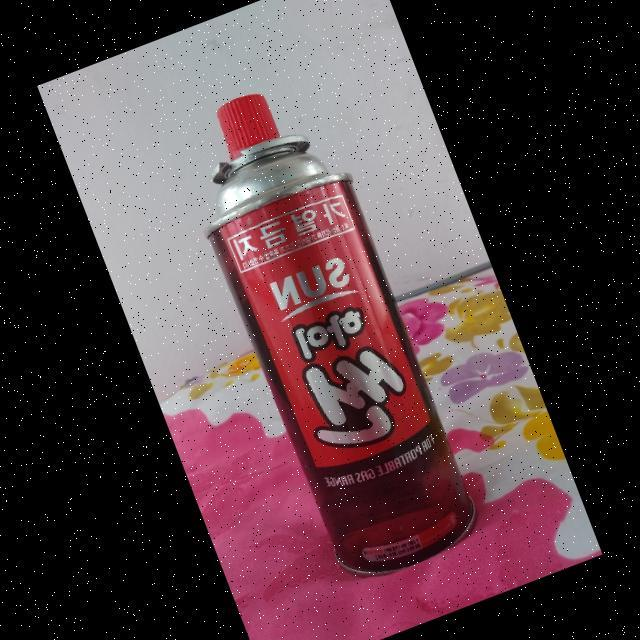chemical_spray_can: (124, 49, 514, 619)
